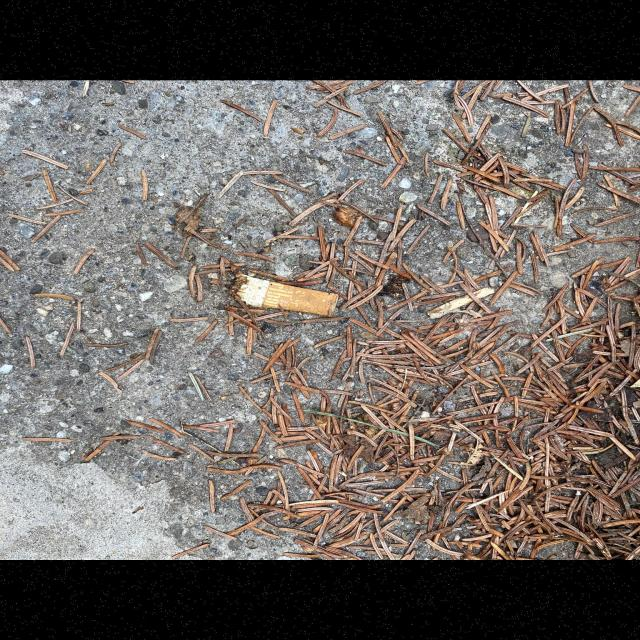other waste: (230, 273, 340, 319)
